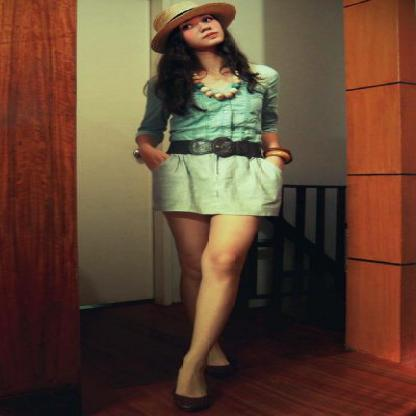dress: (139, 75, 280, 224)
hat: (150, 0, 235, 49)
shoe: (176, 362, 241, 396)
